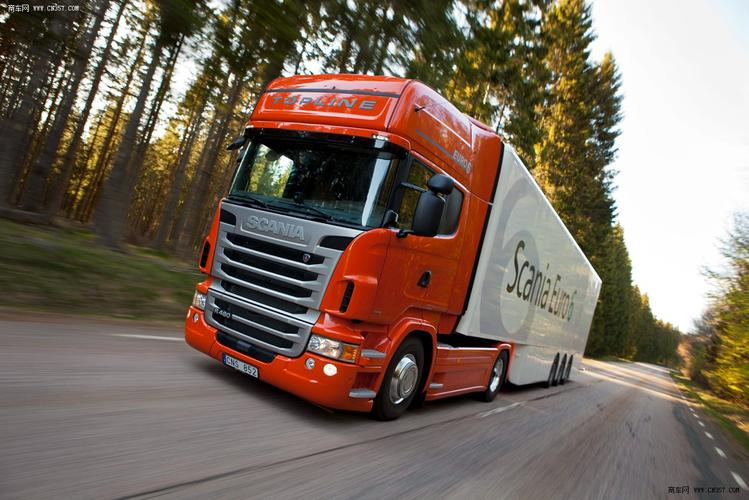卡车: (170, 58, 614, 450)
